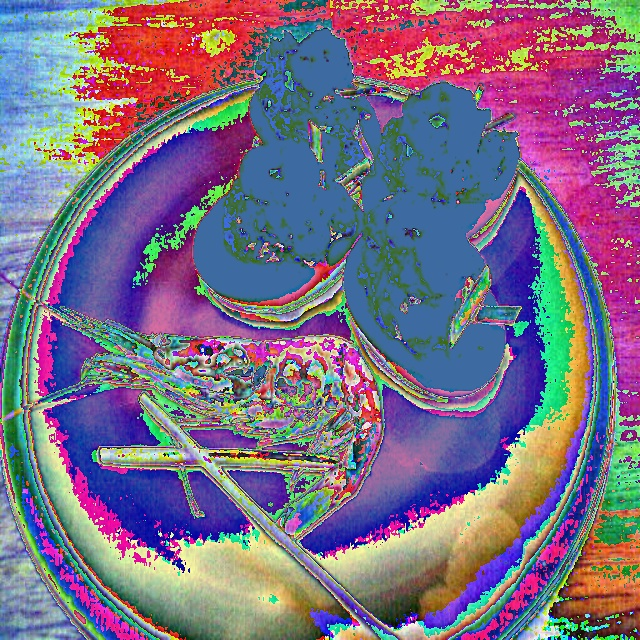background: (0, 282, 402, 639), (193, 27, 522, 396)
